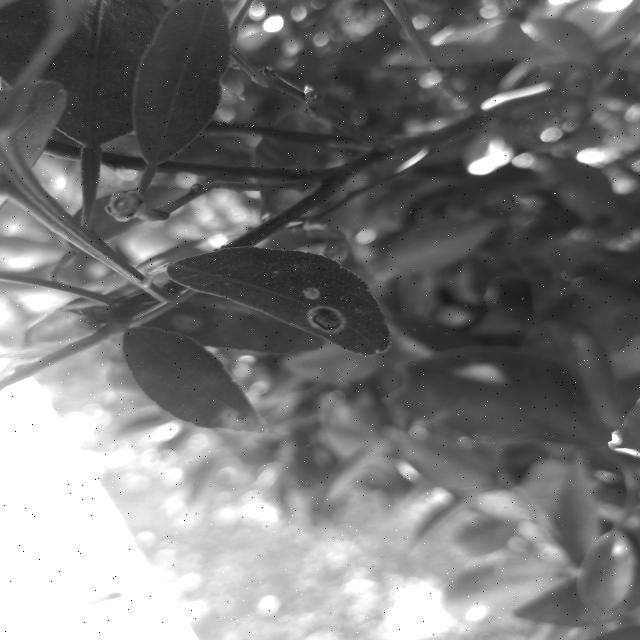canker: (278, 260, 381, 345), (162, 308, 212, 336)
